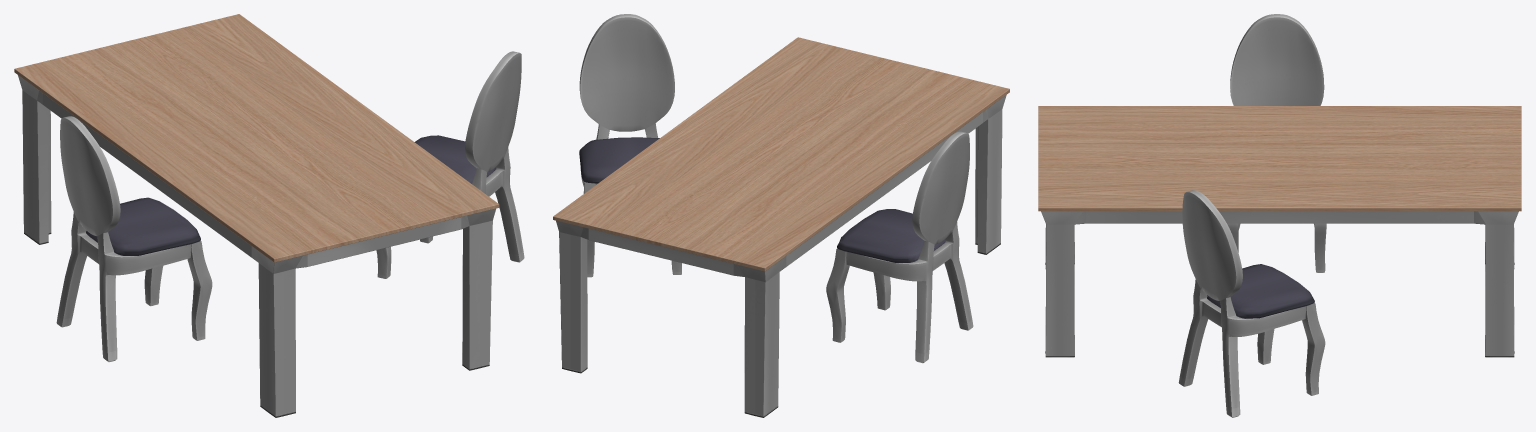
File: table_and_chairs.glb
The picture shows the model from 3 angles, left to right: view 1: azimuth 30°, elevation 25°; view 2: azimuth 150°, elevation 25°; view 3: azimuth 270°, elevation 25°; orthographic projection. The views are drawn at different scales.
Visible parts, largest first — view 1: table, chair, chair.001; view 2: table, chair, chair.001; view 3: table, chair.001, chair.
Boxes of the visible parts, <box> form: table: <box>14,14,499,417</box>; chair: <box>56,116,212,361</box>; chair.001: <box>376,51,524,278</box>; table: <box>553,37,1009,417</box>; chair: <box>826,131,973,363</box>; chair.001: <box>579,14,681,277</box>; table: <box>1038,106,1521,357</box>; chair.001: <box>1178,190,1325,417</box>; chair: <box>1227,14,1326,272</box>.
Bounding box in the file's own units: 2.7 × 1.36 × 2.83.
Materials: 2 (2 with a texture image).
